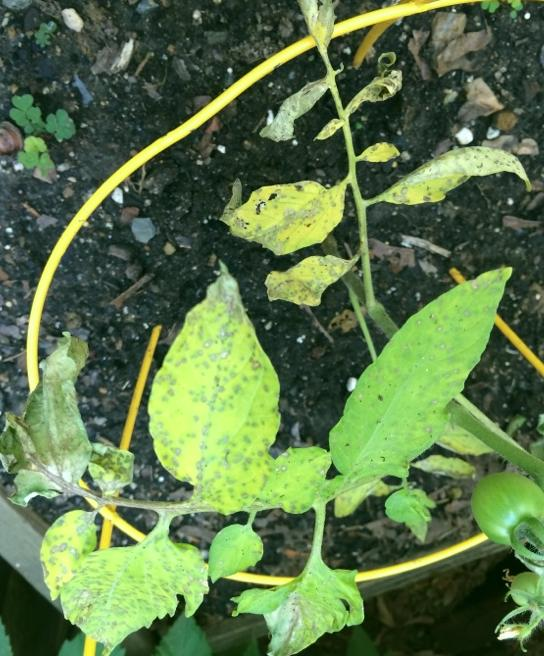Tomato Septoria leaf spot: (330, 264, 511, 514), (153, 253, 276, 531), (48, 530, 217, 656), (220, 545, 369, 656), (213, 168, 363, 249), (254, 445, 328, 526)
